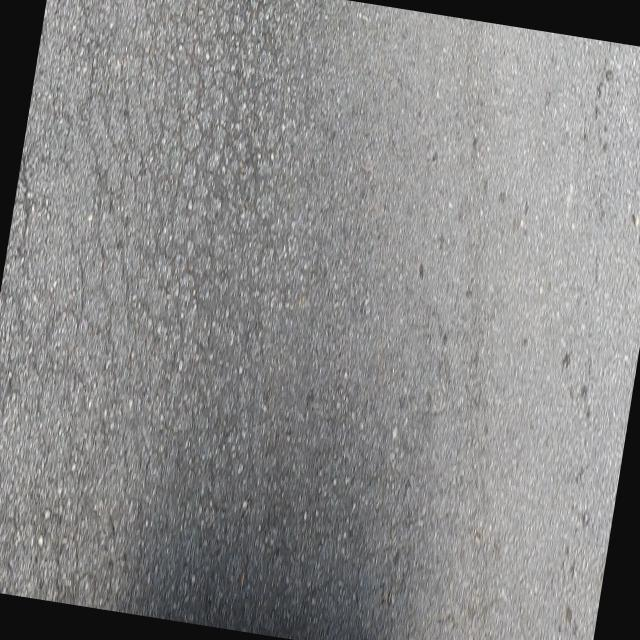Retak-Buaya: (0, 0, 307, 638)
